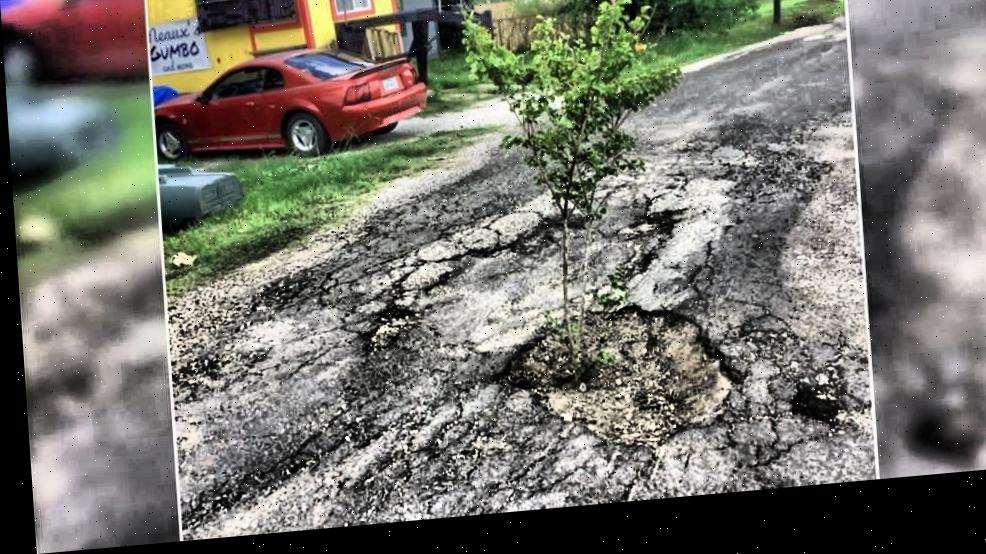pothole: (495, 298, 735, 474), (775, 390, 848, 458)
